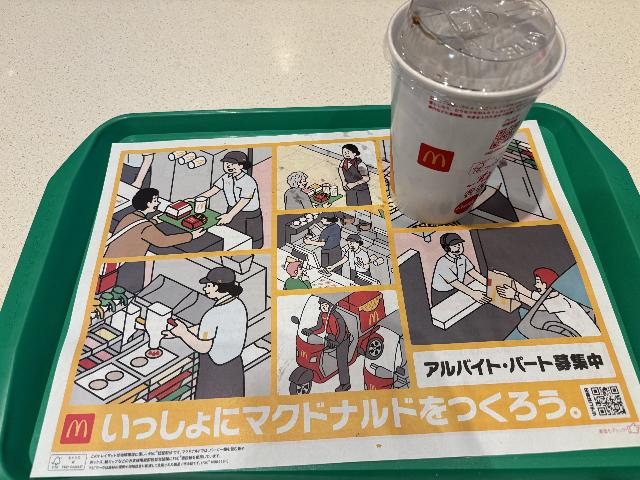drink: (383, 3, 570, 225)
